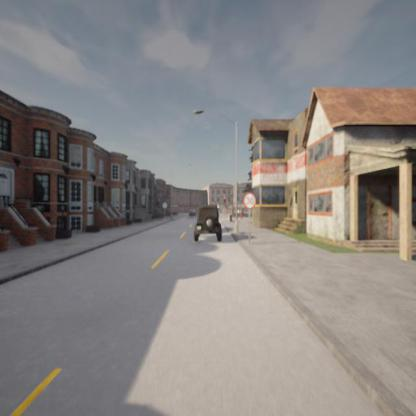traffic_sign_30: (244, 192, 255, 209)
vehicle: (192, 204, 222, 240)
